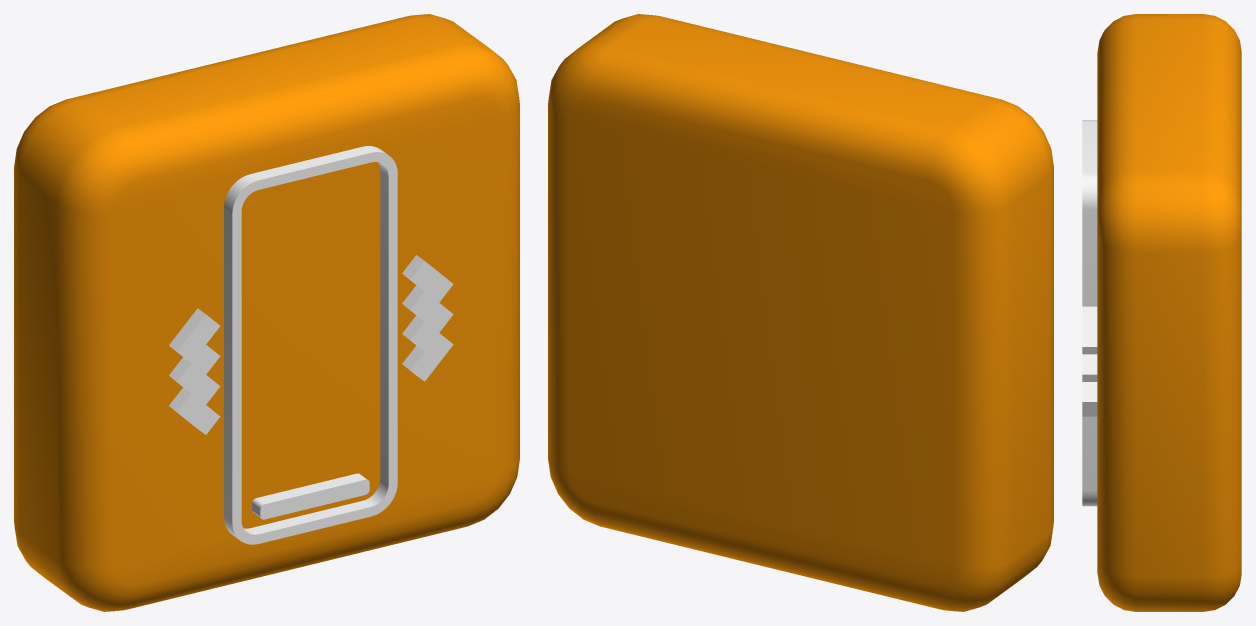
The model's file is vibration_mode.glb.
3 views of the same model, side by side, from view 1: azimuth 30°, elevation 25°; view 2: azimuth 150°, elevation 25°; view 3: azimuth 270°, elevation 25° (orthographic). The views are drawn at different scales.
Visible parts, largest first — view 1: Cube.147, Cube.127, Cube.291; view 2: Cube.147; view 3: Cube.147, Cube.127, Cube.291.
Part boxes in pixels (bbox=[...]): Cube.147: bbox=[14, 14, 519, 611]; Cube.127: bbox=[224, 146, 397, 544]; Cube.291: bbox=[169, 255, 453, 434]; Cube.147: bbox=[548, 14, 1053, 611]; Cube.147: bbox=[1097, 14, 1241, 611]; Cube.127: bbox=[1082, 120, 1097, 506]; Cube.291: bbox=[1082, 306, 1097, 416].
Bounding box in the file's own units: 2.2 × 2.2 × 0.73.
Materials: 1 (1 with a texture image).
